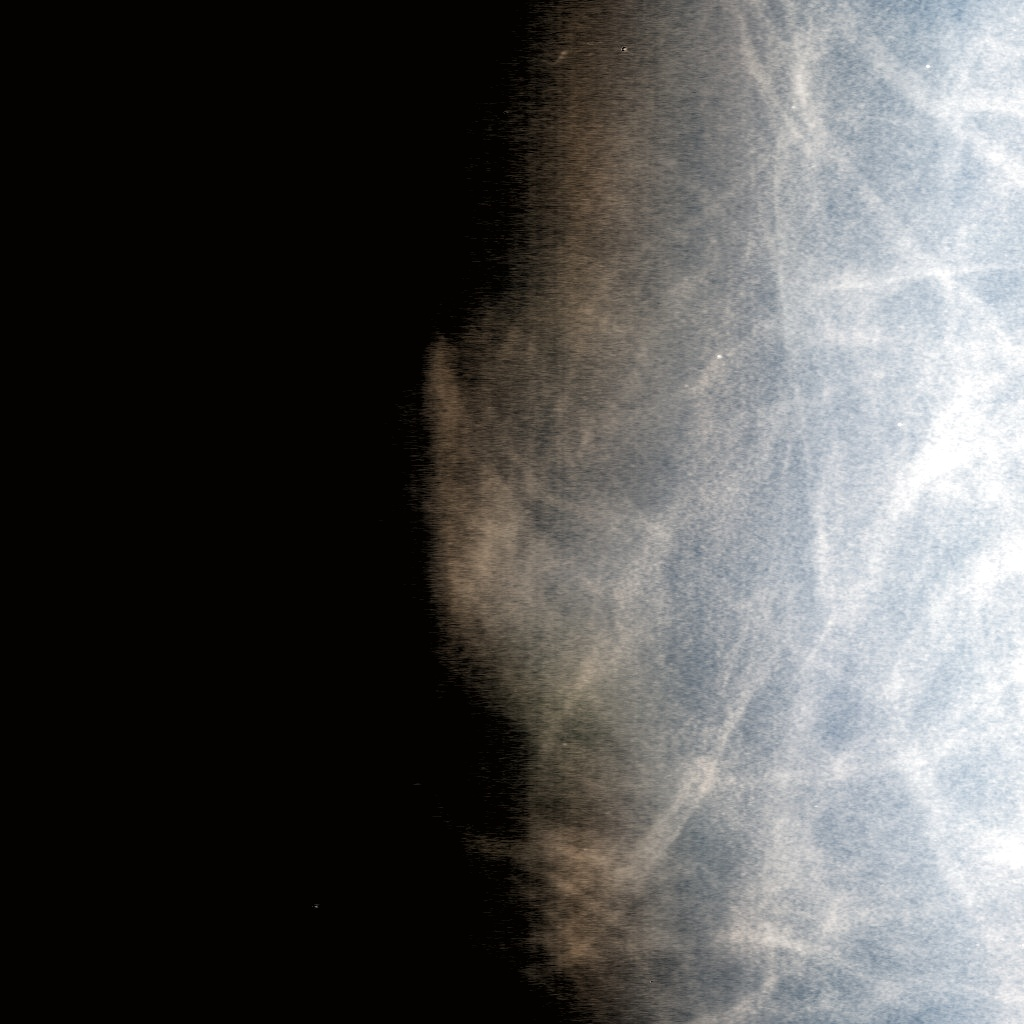tumor: (394, 330, 630, 694)
